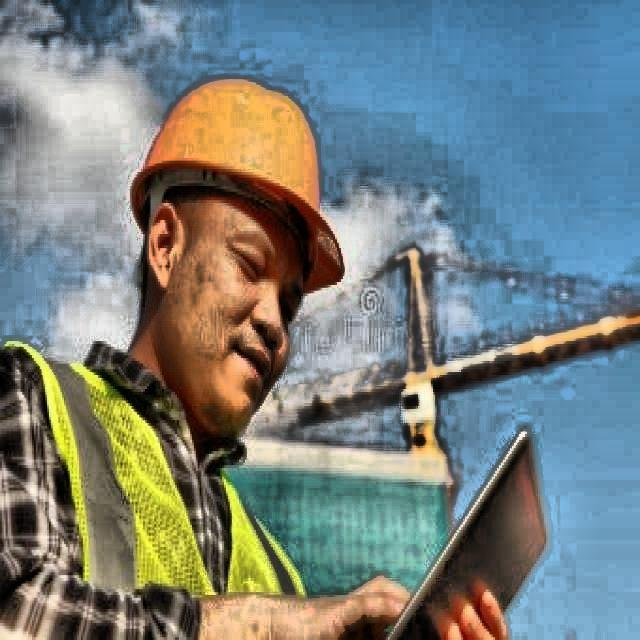bull_dozer/loader/grader: (307, 244, 640, 448)
person: (0, 76, 416, 640)
